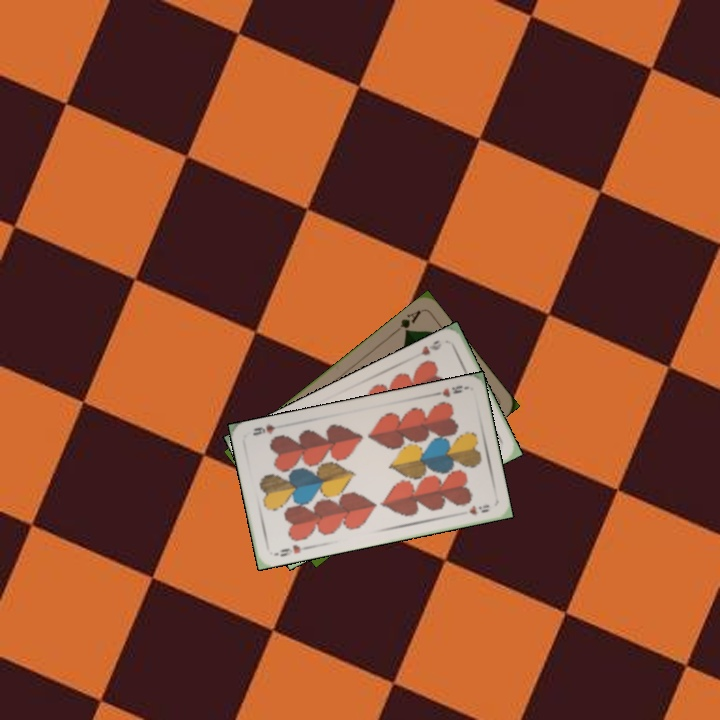GA: (396, 306, 424, 336)
H9: (429, 381, 465, 400), (276, 541, 310, 559), (417, 336, 444, 358)
